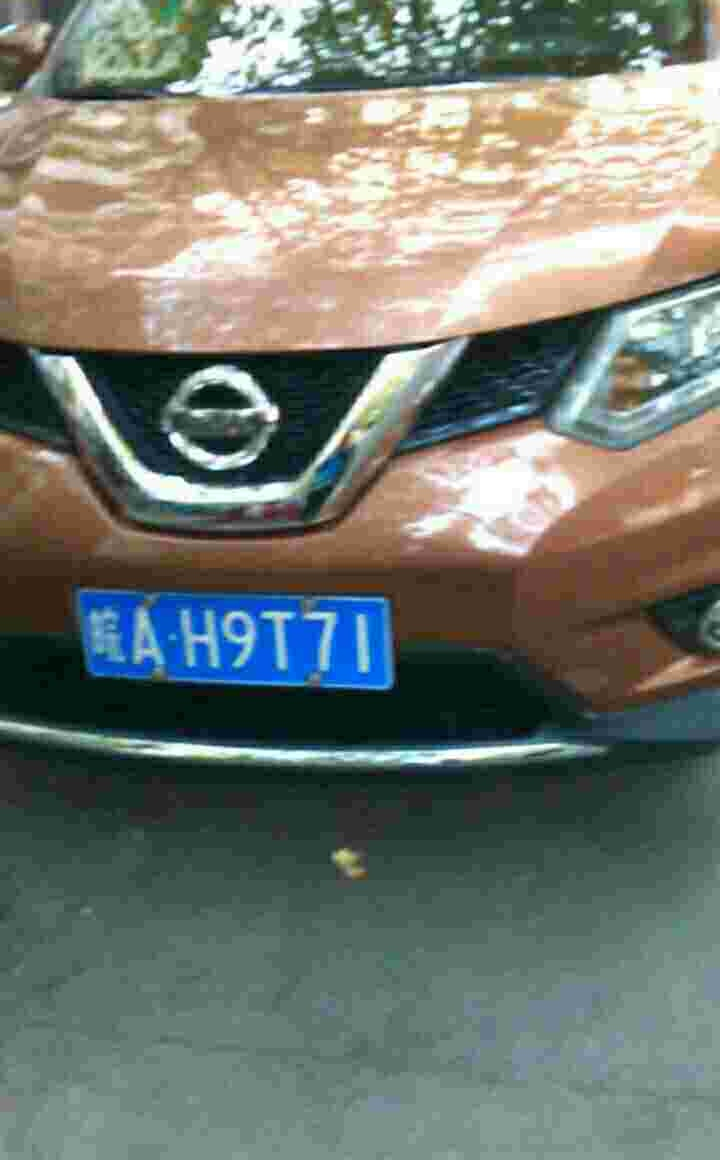license_plate: (82, 585, 402, 696)
